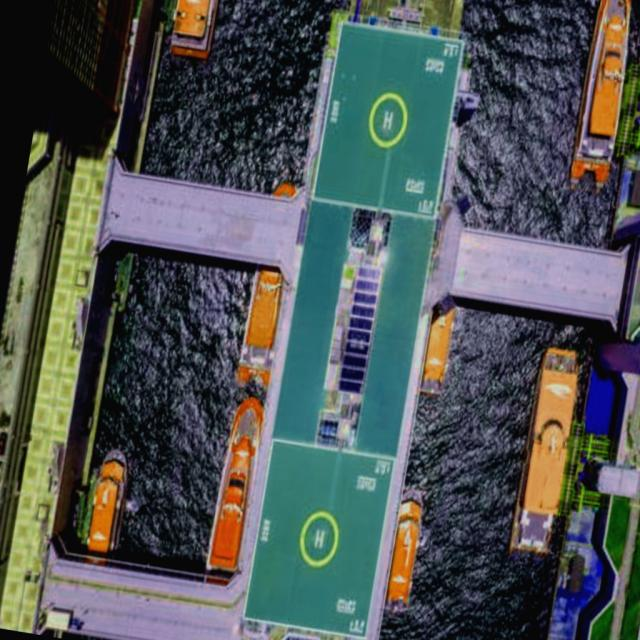helipad: (365, 89, 409, 149), (296, 509, 340, 569)
